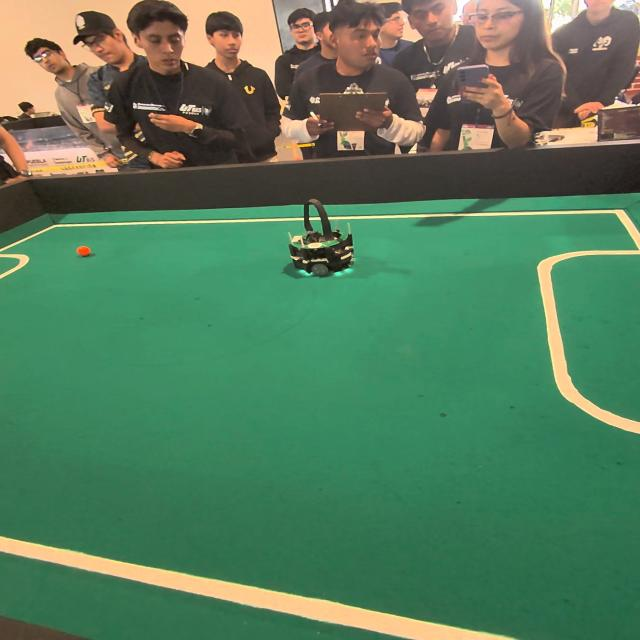Robot: (282, 194, 359, 282)
pelota: (69, 239, 102, 277)
